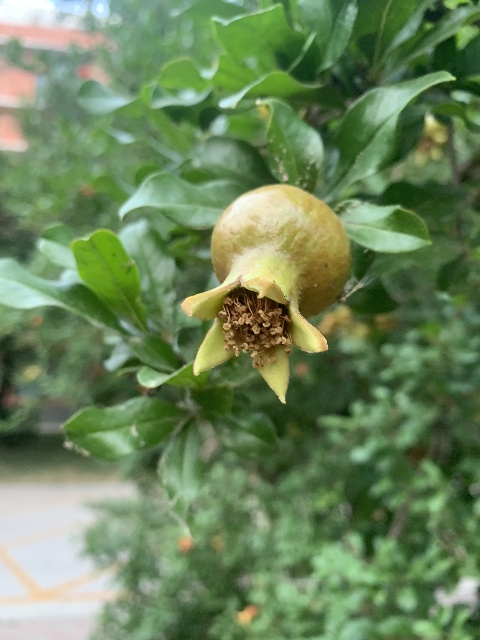mid-growth: (180, 182, 352, 404)
